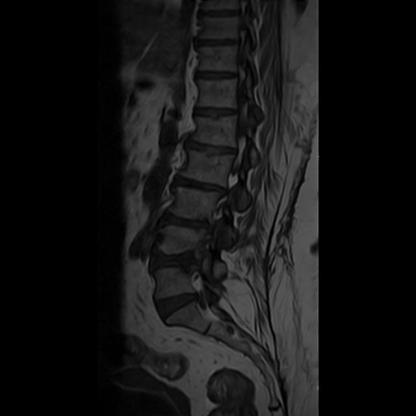Disc Bulgerotation: (146, 239, 209, 279), (153, 289, 207, 321), (156, 206, 217, 233), (170, 174, 233, 198)
